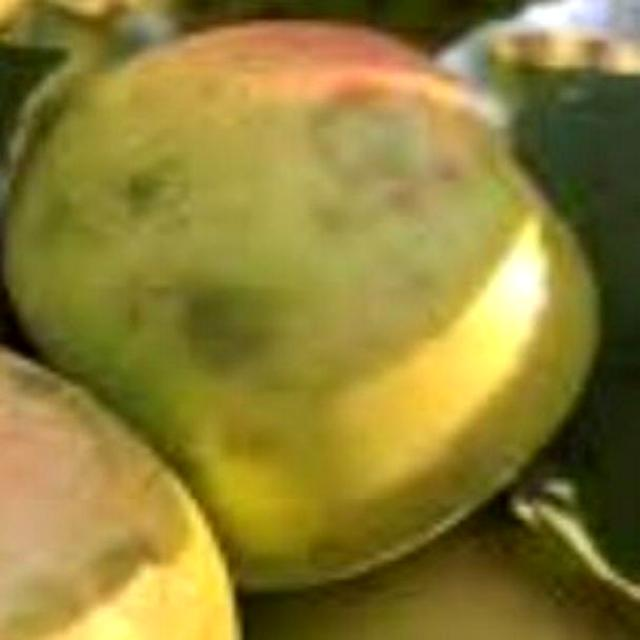BLOTCH: (28, 4, 608, 580)
